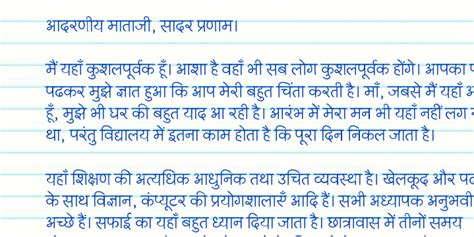text: (320, 58, 391, 79), (85, 59, 155, 80), (210, 190, 288, 208), (43, 15, 105, 33), (381, 168, 429, 190), (194, 169, 248, 188), (428, 190, 474, 212), (99, 124, 151, 143), (140, 191, 187, 212), (135, 169, 189, 187), (106, 16, 152, 35), (368, 193, 425, 208), (69, 168, 112, 187), (326, 216, 383, 230), (312, 171, 364, 186), (91, 189, 132, 208), (345, 123, 388, 141), (94, 212, 133, 231), (42, 84, 87, 100), (307, 81, 345, 99), (428, 213, 463, 232), (424, 61, 468, 76), (269, 104, 305, 122), (277, 168, 311, 186), (387, 81, 422, 98), (247, 210, 275, 231), (245, 83, 274, 103), (196, 18, 234, 33), (175, 61, 208, 78), (88, 80, 112, 103), (158, 18, 194, 33), (275, 81, 305, 99), (152, 104, 180, 123), (167, 127, 200, 143), (67, 128, 98, 145), (338, 190, 367, 208), (46, 212, 75, 230), (290, 57, 317, 76), (233, 124, 260, 143), (42, 168, 69, 187), (419, 102, 444, 122), (290, 192, 319, 209), (181, 215, 208, 233), (212, 215, 244, 230), (399, 212, 427, 229), (219, 80, 244, 99), (142, 83, 168, 101), (202, 127, 233, 142), (63, 103, 86, 123), (115, 82, 142, 99), (318, 125, 345, 142), (394, 102, 418, 121), (220, 59, 245, 77), (323, 102, 348, 120), (389, 127, 419, 142), (61, 193, 91, 208), (61, 58, 84, 77), (155, 211, 178, 230), (277, 215, 308, 229), (438, 81, 463, 98), (183, 105, 208, 122), (191, 83, 217, 99), (294, 127, 317, 145), (432, 169, 456, 186), (442, 105, 469, 120), (393, 58, 415, 76), (248, 172, 276, 186), (349, 105, 373, 120), (273, 124, 293, 142), (362, 80, 381, 98), (189, 191, 209, 208), (170, 80, 188, 98), (132, 103, 150, 121), (265, 62, 288, 76), (107, 106, 130, 120), (229, 104, 249, 120), (42, 102, 57, 123), (114, 168, 132, 185), (43, 191, 61, 208), (247, 59, 263, 76), (424, 81, 440, 98), (90, 103, 107, 119), (375, 103, 391, 120), (135, 215, 153, 230), (382, 212, 397, 230), (157, 58, 169, 80), (209, 106, 226, 121), (207, 58, 221, 76), (44, 128, 62, 142), (319, 189, 332, 208), (44, 59, 59, 75), (418, 124, 432, 141), (344, 81, 357, 99), (152, 124, 165, 142), (76, 212, 88, 231), (307, 211, 319, 230), (260, 124, 272, 142), (251, 102, 262, 120), (307, 103, 320, 118), (365, 168, 374, 187)
